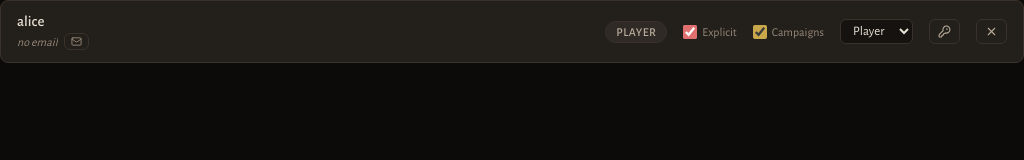
Scenario: UserRow › cancels the confirmation when No is clicked
Click the button named "Delete user alice": (992, 32) x1=976 y1=19 x2=1007 y2=44
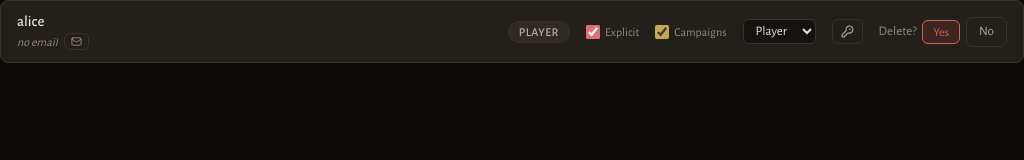
Click the button "No": (986, 32) x1=966 y1=16 x2=1007 y2=46
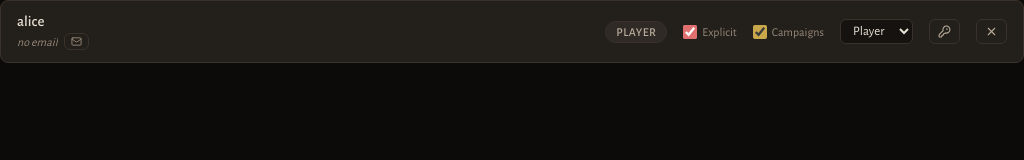
Expected: the text "Delete?" is gone
